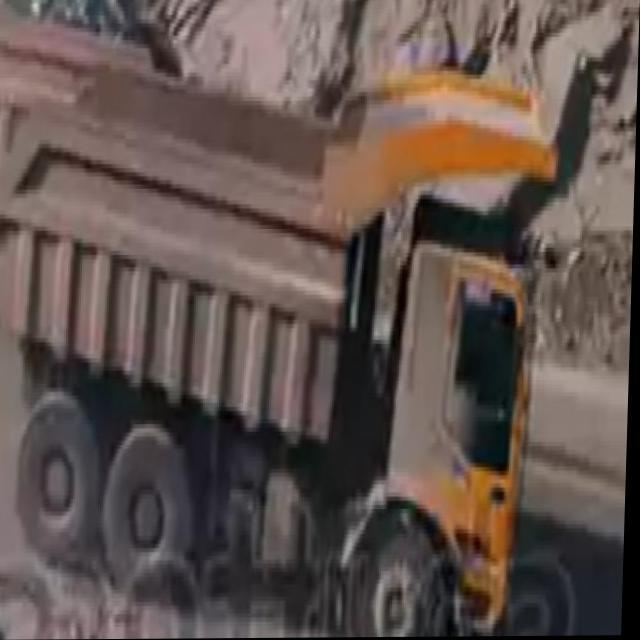uncovered: (0, 0, 577, 592)
